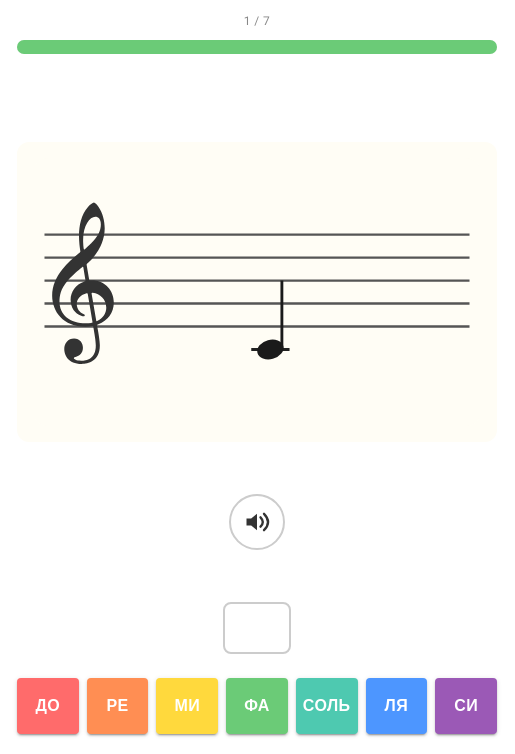
labels both answers and the correct answer using ru/solfege
What coordinates should you click on to do the following:
click the button "До"
I would click on:
 (48, 706)
Its box is x1=17 y1=678 x2=79 y2=734.
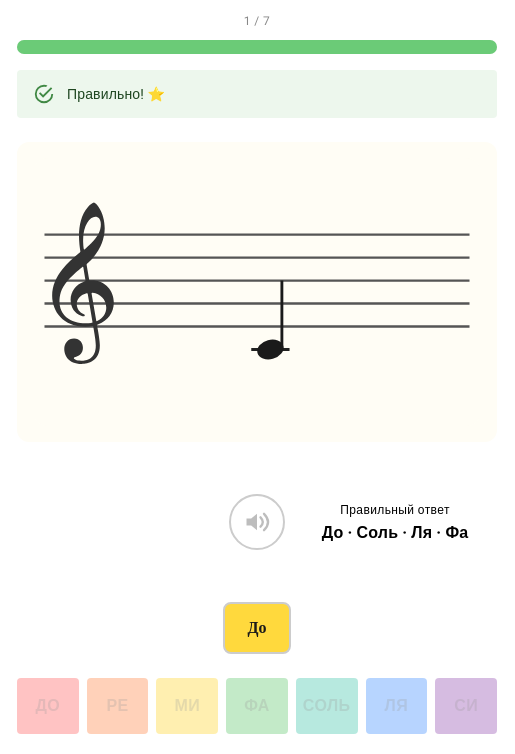
Expected: the element "Правильный ответ" shows "До", x1=322 y1=522 x2=468 y2=541
Expected: the element "Правильный ответ" shows "Ля", x1=322 y1=522 x2=468 y2=541
